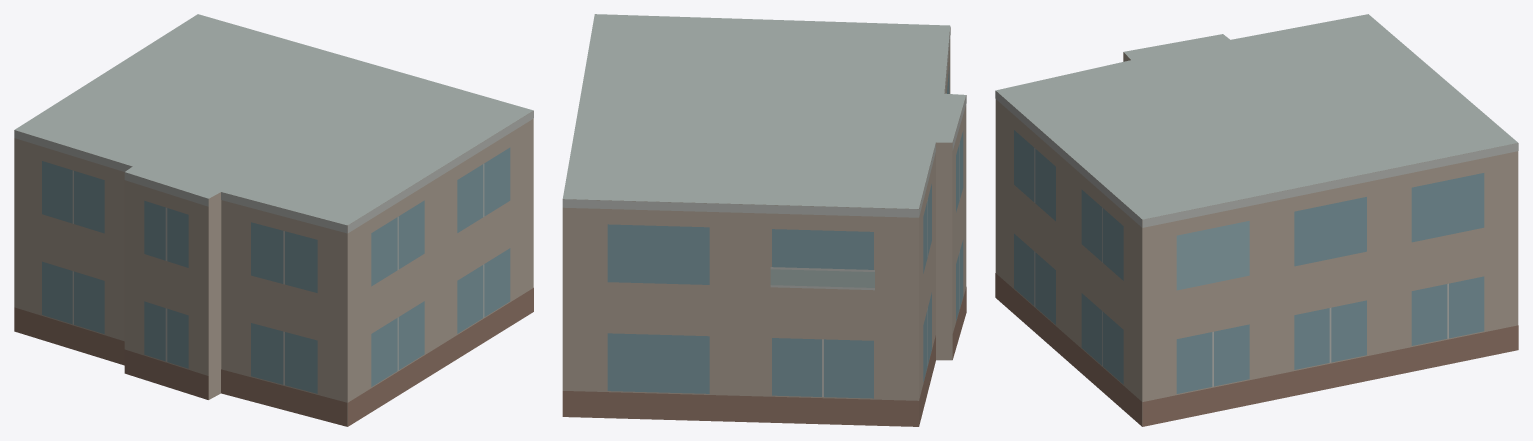
File: survey-upis-32834561.glb
3 renders of one model, left to right at view 1: azimuth 30°, elevation 25°; view 2: azimuth 150°, elevation 25°; view 3: azimuth 270°, elevation 25°, orthographic. The views are drawn at different scales.
Parts seen in each view (by area): view 1: survey-upis-32834561.tmp; view 2: survey-upis-32834561.tmp; view 3: survey-upis-32834561.tmp.
Part boxes in pixels (<box>): survey-upis-32834561.tmp: <box>14,14,533,426</box>; survey-upis-32834561.tmp: <box>562,14,966,426</box>; survey-upis-32834561.tmp: <box>995,14,1518,426</box>.
Bounding box in the file's own units: 12.99 × 6.1 × 13.96.
